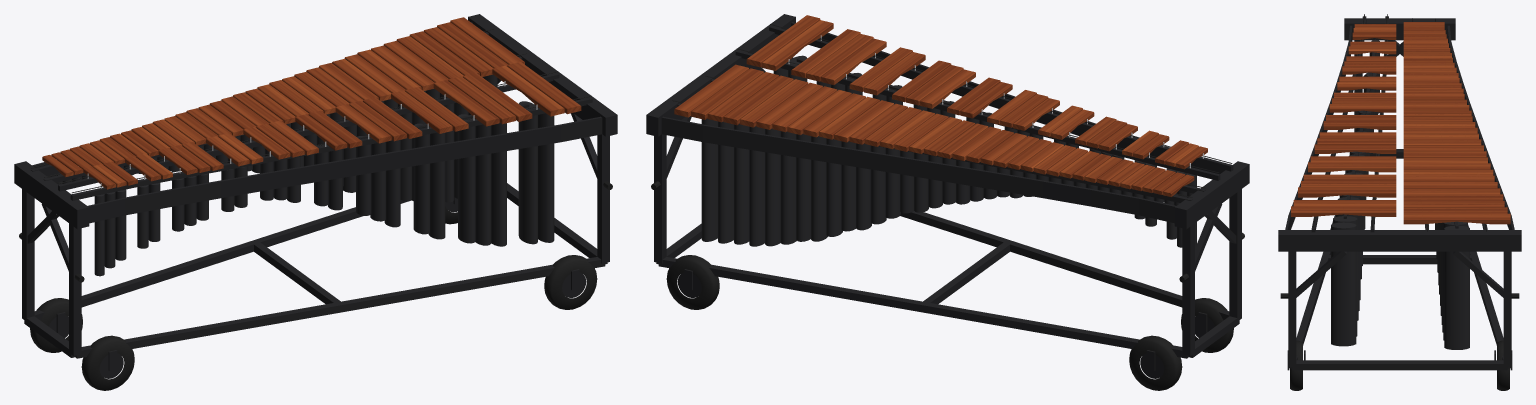
File: marimba-5.0-synthetic-black.glb
3 renders of one model, left to right at view 1: azimuth 30°, elevation 25°; view 2: azimuth 150°, elevation 25°; view 3: azimuth 270°, elevation 25°, orthographic. The views are drawn at different scales.
Visible parts, largest first — view 1: bars-synthetic, frame, resonators-black, artwork, rubber; view 2: frame, bars-synthetic, resonators-black, rubber; view 3: bars-synthetic, frame, resonators-black, rubber.
Boxes of the visible parts, x1=… form: bars-synthetic: x1=42, y1=17, x2=581, y2=189; frame: x1=14, y1=14, x2=617, y2=378; resonators-black: x1=56, y1=74, x2=554, y2=276; artwork: x1=89, y1=118, x2=602, y2=223; rubber: x1=19, y1=28, x2=612, y2=390; frame: x1=646, y1=14, x2=1249, y2=378; bars-synthetic: x1=674, y1=15, x2=1207, y2=196; resonators-black: x1=701, y1=55, x2=1196, y2=247; rubber: x1=651, y1=24, x2=1244, y2=390; bars-synthetic: x1=1291, y1=22, x2=1510, y2=224; frame: x1=1278, y1=16, x2=1521, y2=370; resonators-black: x1=1331, y1=39, x2=1469, y2=349; rubber: x1=1280, y1=14, x2=1519, y2=390.
Bounding box in the file's own units: 2.54 × 0.982 × 1.21.
Materials: 6 (1 with a texture image).
